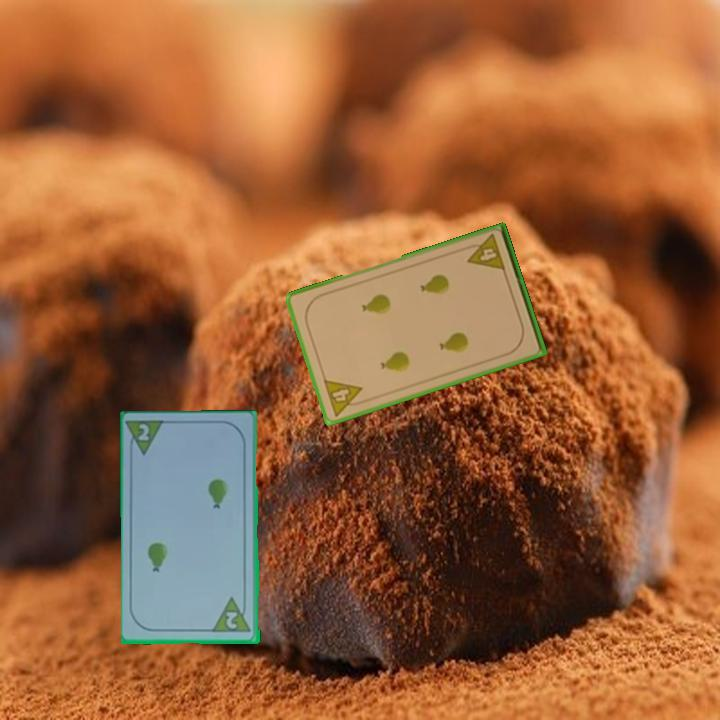2p: (125, 418, 169, 460), (211, 595, 254, 635)
4p: (320, 376, 369, 419), (461, 230, 508, 274)
